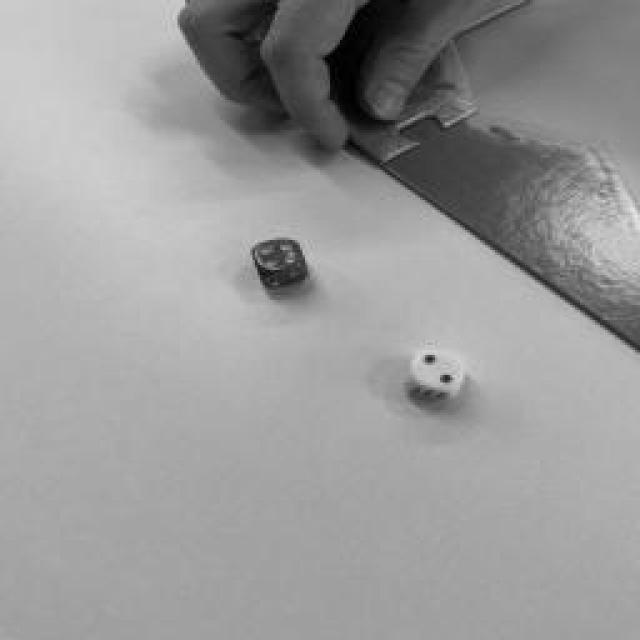dice_2: (414, 348, 464, 392)
dice_4: (251, 239, 304, 271)
